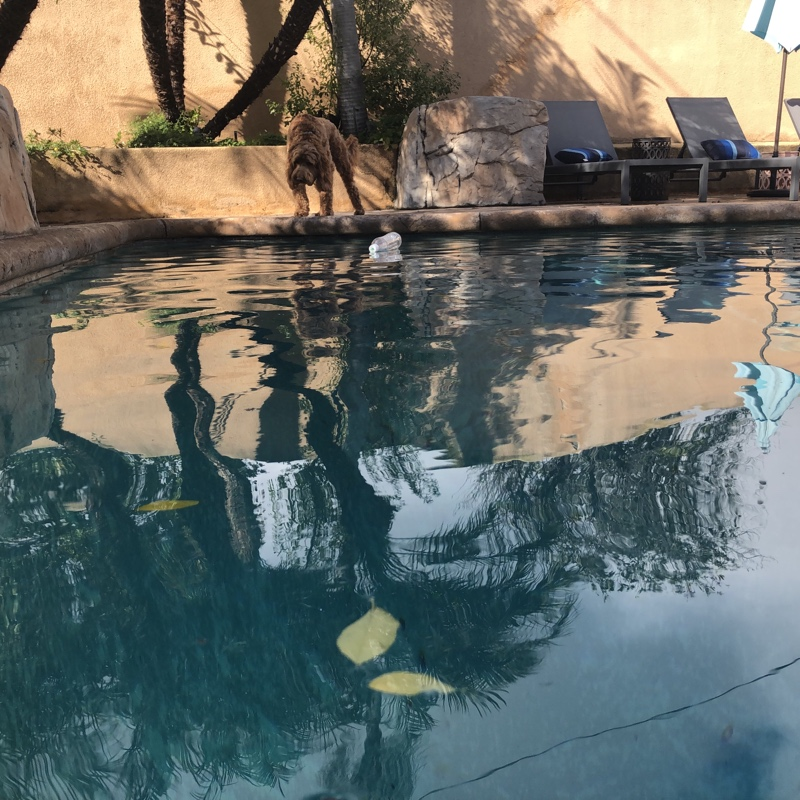Plastic Bottle: (369, 230, 403, 256)
